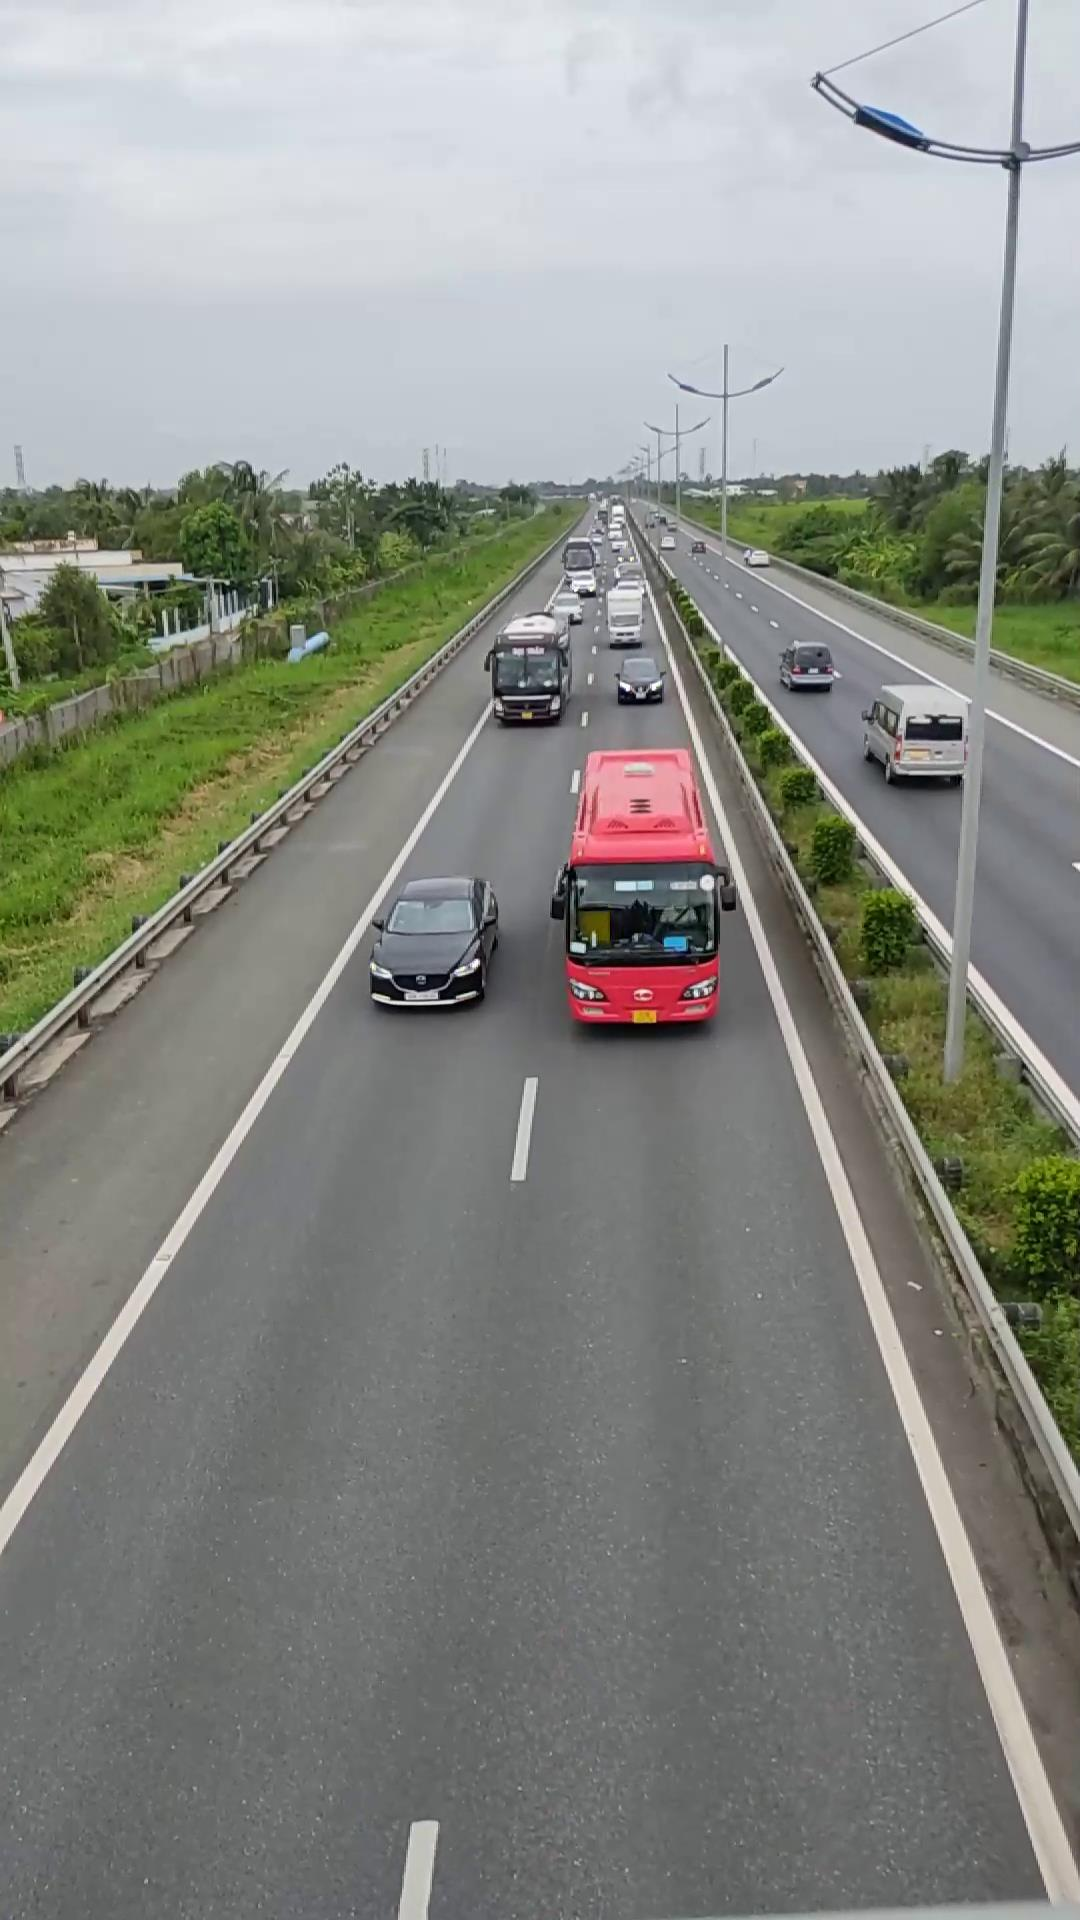bus: (550, 744, 731, 1030), (487, 612, 570, 723)
car: (367, 873, 501, 1007), (860, 676, 971, 785)
